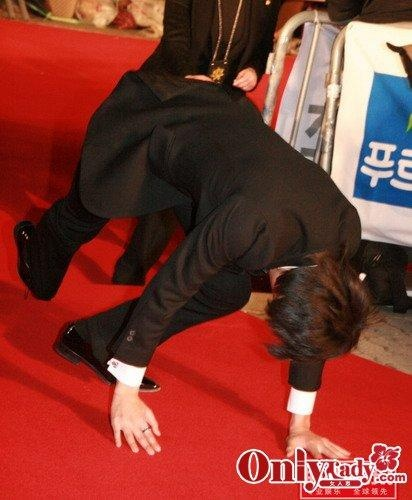falling: (25, 8, 379, 481)
